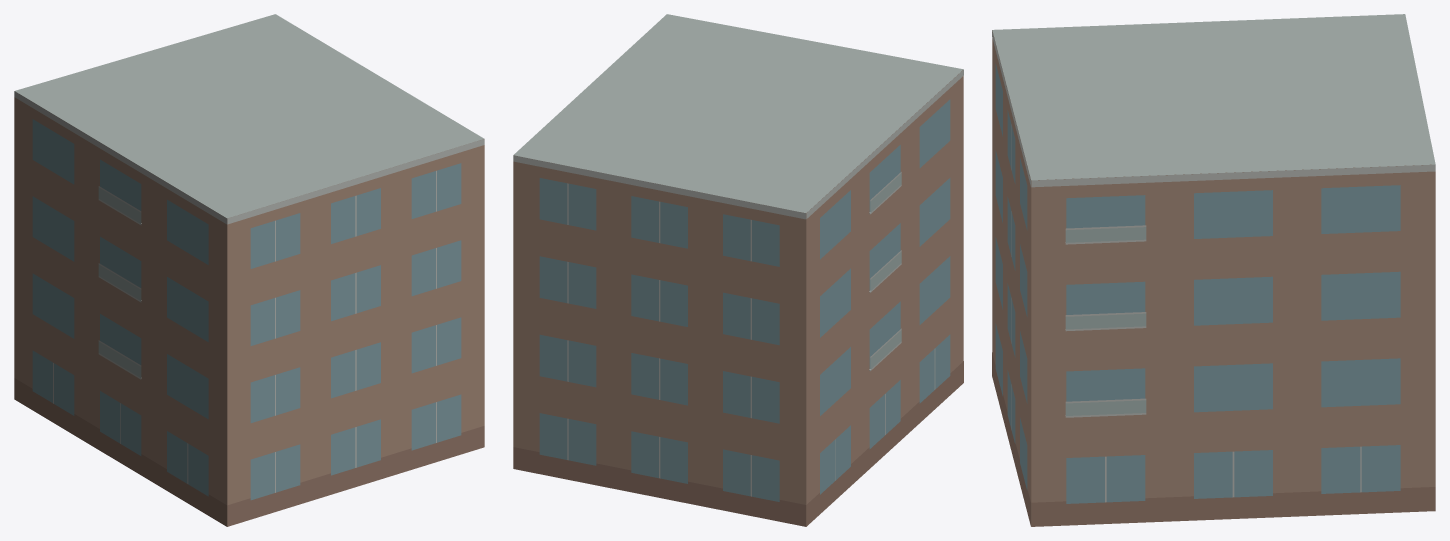
File: survey-upis-32610267.glb
3 renders of one model, left to right at view 1: azimuth 30°, elevation 25°; view 2: azimuth 150°, elevation 25°; view 3: azimuth 270°, elevation 25°, orthographic. The views are drawn at different scales.
Parts seen in each view (by area): view 1: survey-upis-32610267.tmp; view 2: survey-upis-32610267.tmp; view 3: survey-upis-32610267.tmp.
Part boxes in pixels (x1,y1,x2,y2): survey-upis-32610267.tmp: [14, 14, 484, 526]; survey-upis-32610267.tmp: [513, 14, 963, 526]; survey-upis-32610267.tmp: [992, 14, 1435, 526].
Size of the model in its own units: 12.57 by 12.2 by 14.16.
